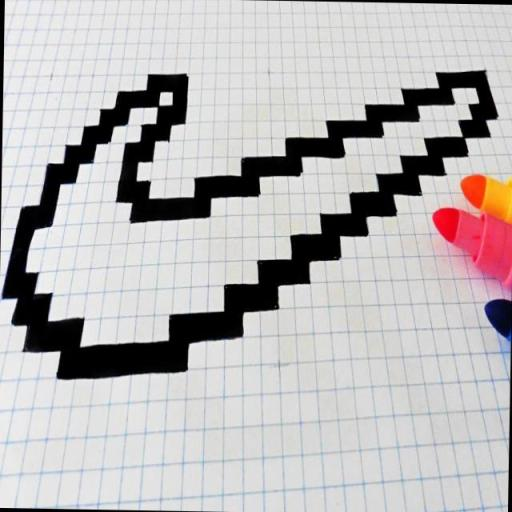Nike: (27, 60, 481, 366)
